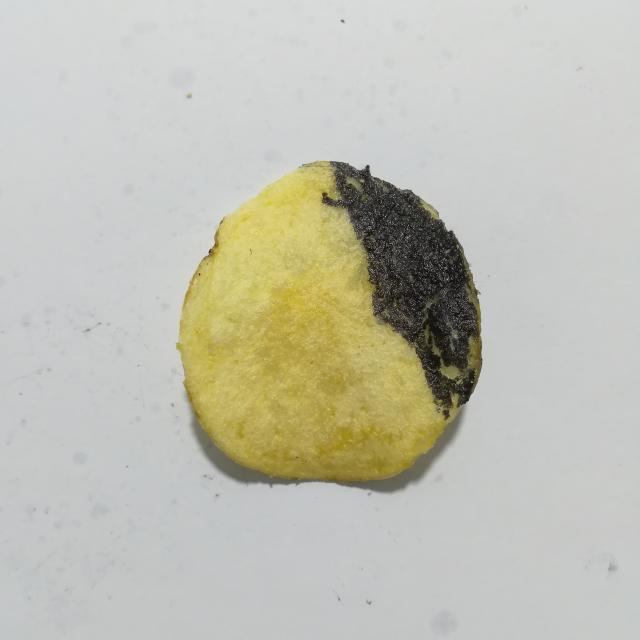chip: (177, 162, 482, 481)
damaged: (323, 162, 479, 417)
